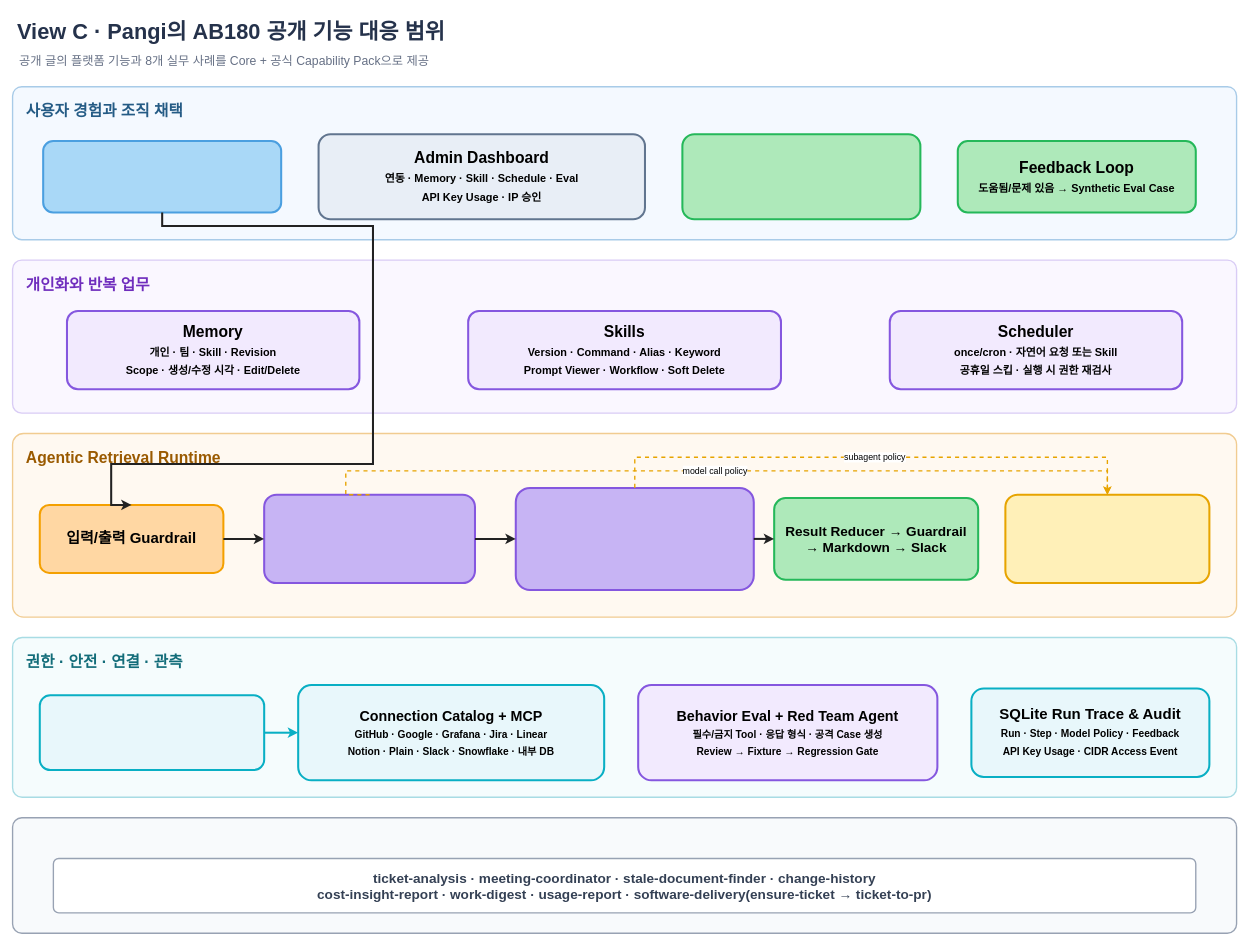
The diagram is 1248 pixels wide and 945 high, and some of its shapes have lost their labels. The shapes that lost their labels are listed below. From the top down, each one's box as (x1, y1, x2, y2) in pixels, then its label:
(42, 140, 282, 213): Slack 업무 진입점 질문 · Command · Approval · 결과
(681, 133, 921, 220): Usage Analytics DAU/MAU · 대상자 비율 · 90일 실행 내부/외부/Pilot Cohort
(263, 493, 476, 584): Root Orchestrator 자연어 logical call 1회
(514, 487, 754, 591): Domain Subagents GitHub · Notion · Slack · Calendar Data · Web Search · depth=1
(1004, 493, 1210, 584): Model Router & Egress Policy Data Class · Provider · Model · Region · Redaction
(38, 694, 265, 771): User OAuth 사용자 권한 · Scope · Token 격리
(12, 817, 1237, 934): 공식 AB180 Parity Capability Packs
